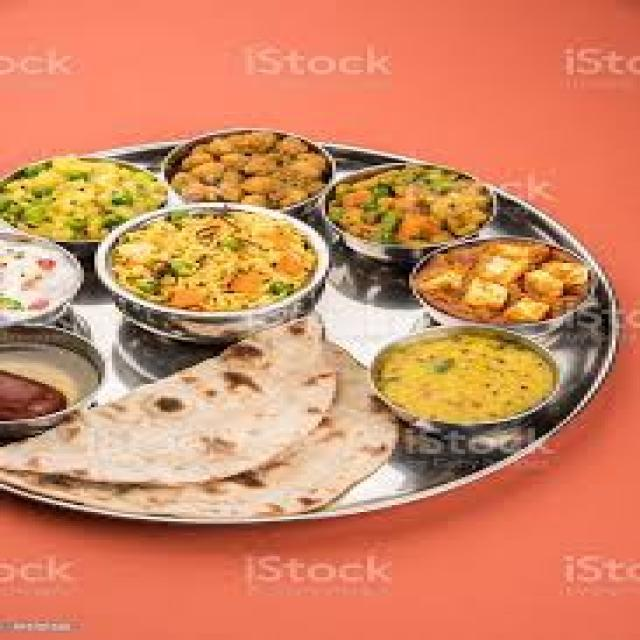dal: (375, 324, 583, 434)
raita: (0, 237, 73, 320)
rice: (97, 201, 320, 322)
roti: (74, 316, 404, 514)
sweet: (6, 346, 80, 428)
veg-fry: (310, 148, 527, 276)
